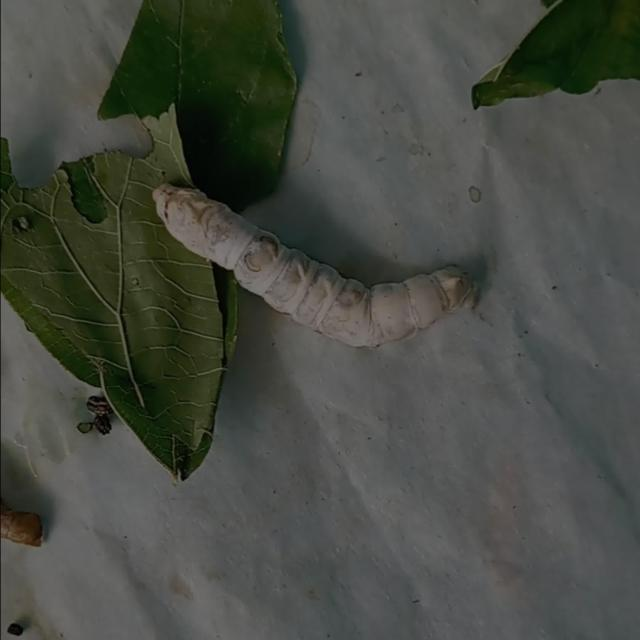Grasserie: (141, 165, 480, 368)
